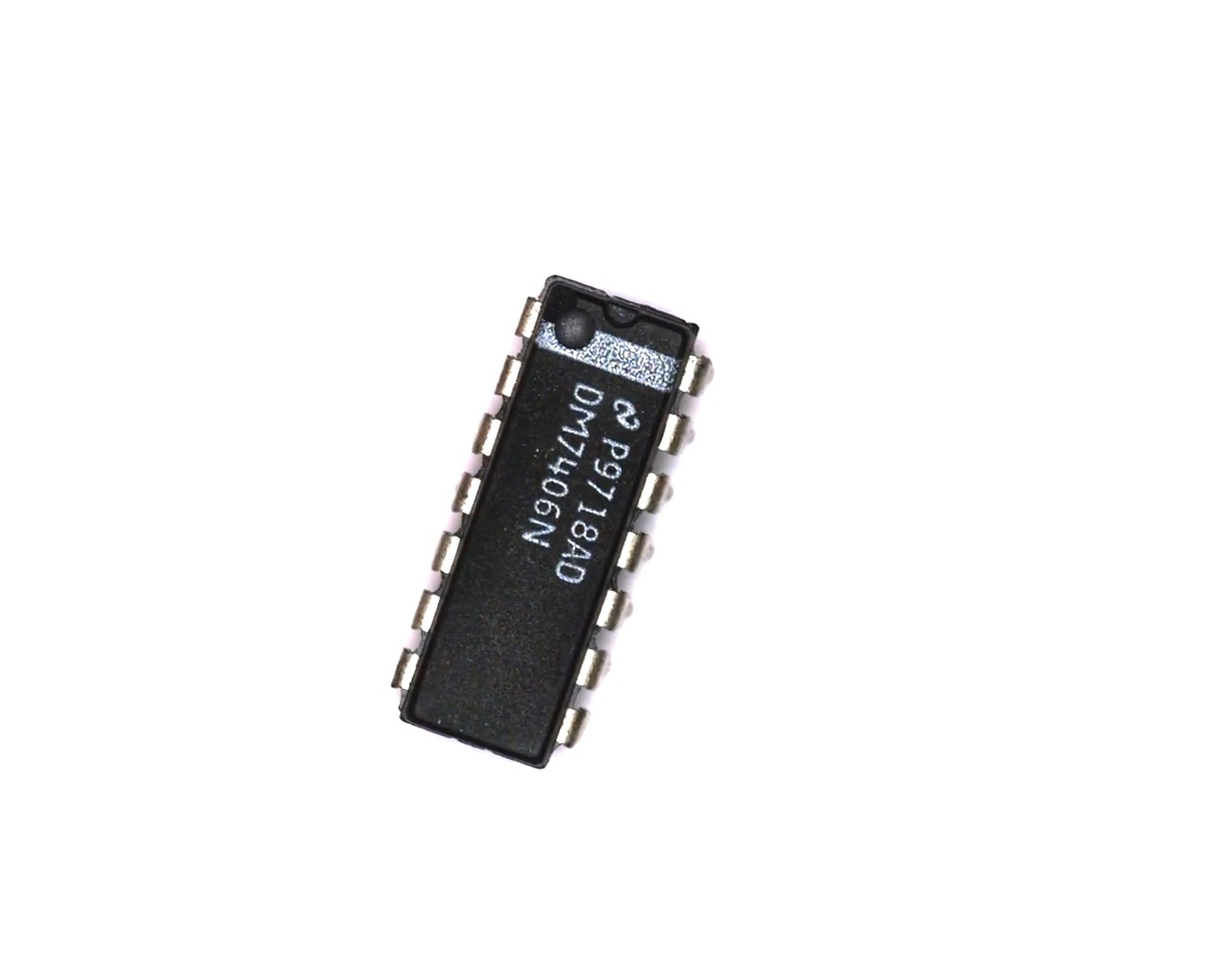IC: (367, 254, 735, 786)
notch: (596, 289, 645, 339)
